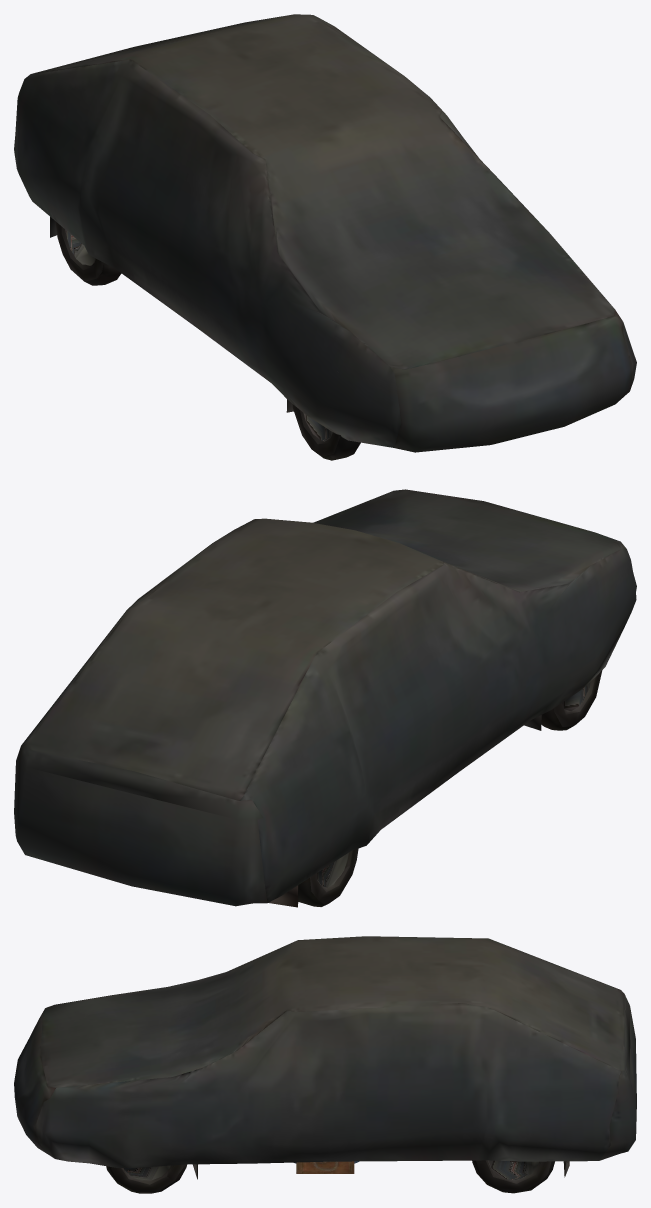
The model's file is kilnyard_props.glb.
The picture shows the model from 3 angles, top to bottom: view 1: azimuth 30°, elevation 25°; view 2: azimuth 150°, elevation 25°; view 3: azimuth 270°, elevation 25°; orthographic projection. The views are drawn at different scales.
Visible parts, largest first — view 1: prop_car; view 2: prop_car; view 3: prop_car, prop_crate.
Part boxes in pixels (left/top/right/bottom): prop_car: left=14, top=14, right=636, bottom=460; prop_car: left=14, top=489, right=636, bottom=907; prop_car: left=14, top=936, right=636, bottom=1193; prop_crate: left=296, top=1161, right=354, bottom=1173.
Size of the model in its own units: 1.79 by 1.41 by 4.37.
Materials: 4 (4 with a texture image).
